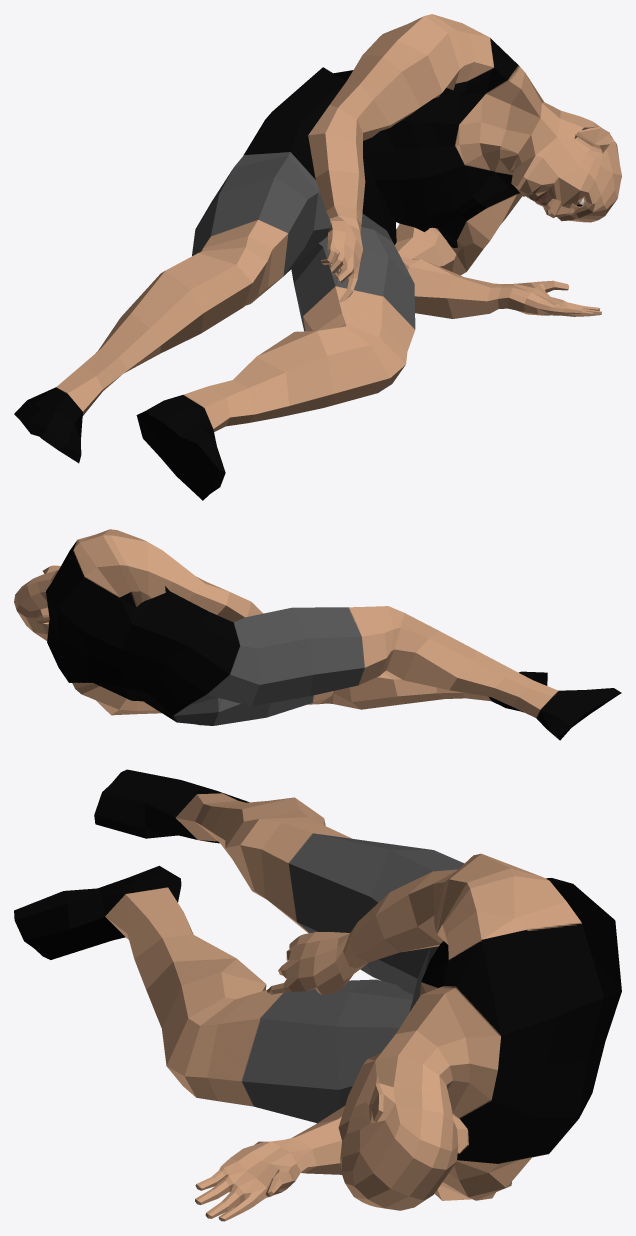
The model's file is PlayerDead(68).obj.
3 views of the same model, one above another, from view 1: azimuth 30°, elevation 25°; view 2: azimuth 150°, elevation 25°; view 3: azimuth 270°, elevation 25° (orthographic). The views are drawn at different scales.
Parts seen in each view (by area): view 1: Plane002; view 2: Plane002; view 3: Plane002.
Boxes of the visible parts, x1,y1,x2,y2 form: Plane002: (14,14,621,500); Plane002: (14,529,621,740); Plane002: (14,769,621,1221).
Bounding box in the file's own units: 1594 × 576 × 917.
